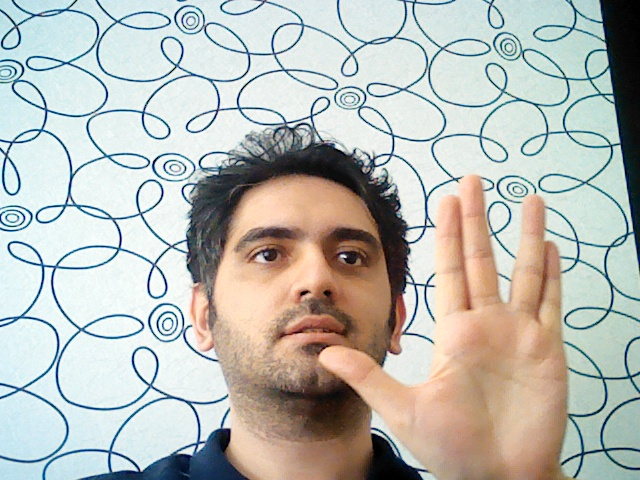LiveLong: (319, 174, 570, 480)
